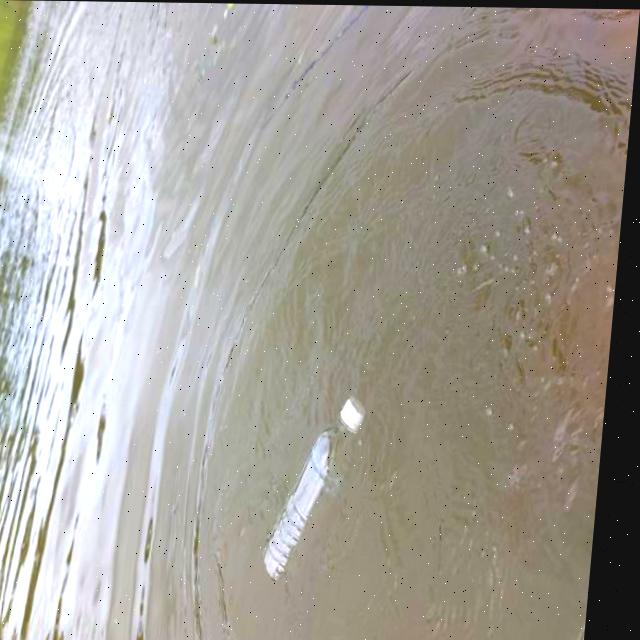waterbottle: (256, 381, 396, 595)
